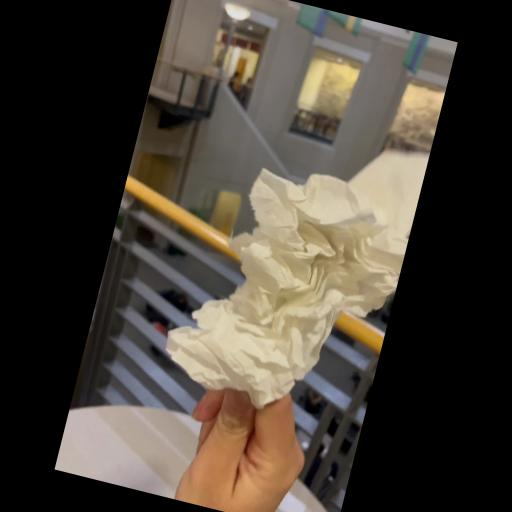napkin: (155, 142, 420, 431)
